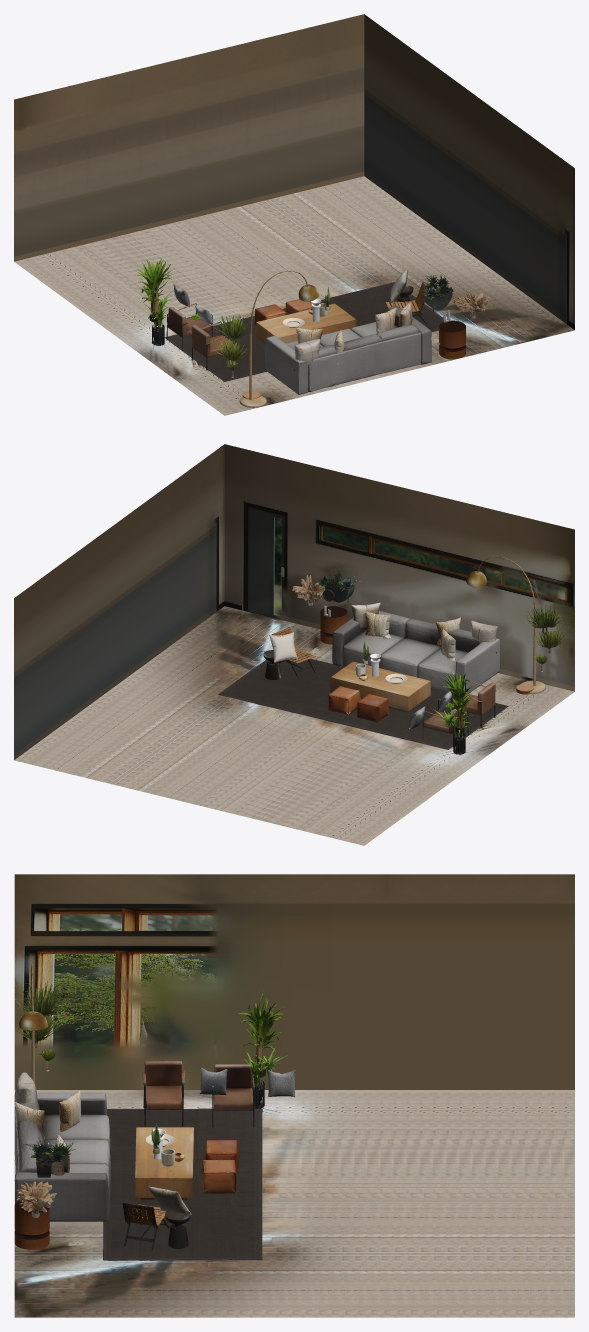
File: scene_lite.glb
The picture shows the model from 3 angles, top to bottom: view 1: azimuth 30°, elevation 25°; view 2: azimuth 150°, elevation 25°; view 3: azimuth 270°, elevation 25°; orthographic projection. The views are drawn at different scales.
Visible parts, largest first — view 1: room_wall_z_min, room_floor, room_wall_x_max, 041_sofa, 039_rug, 004_coffee_table, 029_plant, 040_side_table, 015_floor_lamp, 002_chair, 003_chair, 007_decorative_item (+2 smaller); view 2: room_floor, room_wall_z_max, room_wall_x_max, 039_rug, 041_sofa, 004_coffee_table, 015_floor_lamp, 029_plant, 002_chair, 016_ottoman, 017_ottoman, 040_side_table (+6 smaller); view 3: room_wall_x_min, room_floor, 039_rug, 041_sofa, 004_coffee_table, 002_chair, 003_chair, 040_side_table, 029_plant, 016_ottoman, 001_chair, 026_plant (+11 smaller).
Boxes of the visible parts, <box> form: room_wall_z_min: <box>14,14,364,261</box>; room_floor: <box>14,176,574,415</box>; room_wall_x_max: <box>364,14,574,329</box>; 041_sofa: <box>265,306,431,394</box>; 039_rug: <box>164,282,442,381</box>; 004_coffee_table: <box>256,303,356,343</box>; 029_plant: <box>137,258,172,322</box>; 040_side_table: <box>439,320,465,359</box>; 015_floor_lamp: <box>239,270,319,407</box>; 002_chair: <box>190,322,236,370</box>; 003_chair: <box>166,303,212,351</box>; 007_decorative_item: <box>421,280,453,315</box>; room_floor: <box>14,606,574,845</box>; room_wall_z_max: <box>224,444,574,691</box>; room_wall_x_max: <box>14,444,224,759</box>; 039_rug: <box>218,657,508,749</box>; 041_sofa: <box>332,610,499,693</box>; 004_coffee_table: <box>330,661,430,712</box>; 015_floor_lamp: <box>466,556,545,693</box>; 029_plant: <box>442,671,474,733</box>; 002_chair: <box>451,679,496,728</box>; 016_ottoman: <box>328,686,360,714</box>; 017_ottoman: <box>357,694,388,722</box>; 040_side_table: <box>320,606,347,644</box>; room_wall_x_min: <box>14,874,574,1089</box>; room_floor: <box>14,1090,574,1317</box>; 039_rug: <box>103,1108,262,1260</box>; 041_sofa: <box>14,1092,110,1221</box>; 004_coffee_table: <box>135,1127,193,1200</box>; 002_chair: <box>142,1061,184,1126</box>; 003_chair: <box>212,1064,254,1127</box>; 040_side_table: <box>14,1200,49,1249</box>; 029_plant: <box>239,990,285,1077</box>; 016_ottoman: <box>201,1160,236,1193</box>; 001_chair: <box>122,1202,169,1250</box>; 026_plant: <box>16,1181,56,1217</box>.
Size of the model in its own units: 2.04 by 0.9036 by 2.13.
Materials: 43 (43 with a texture image).
